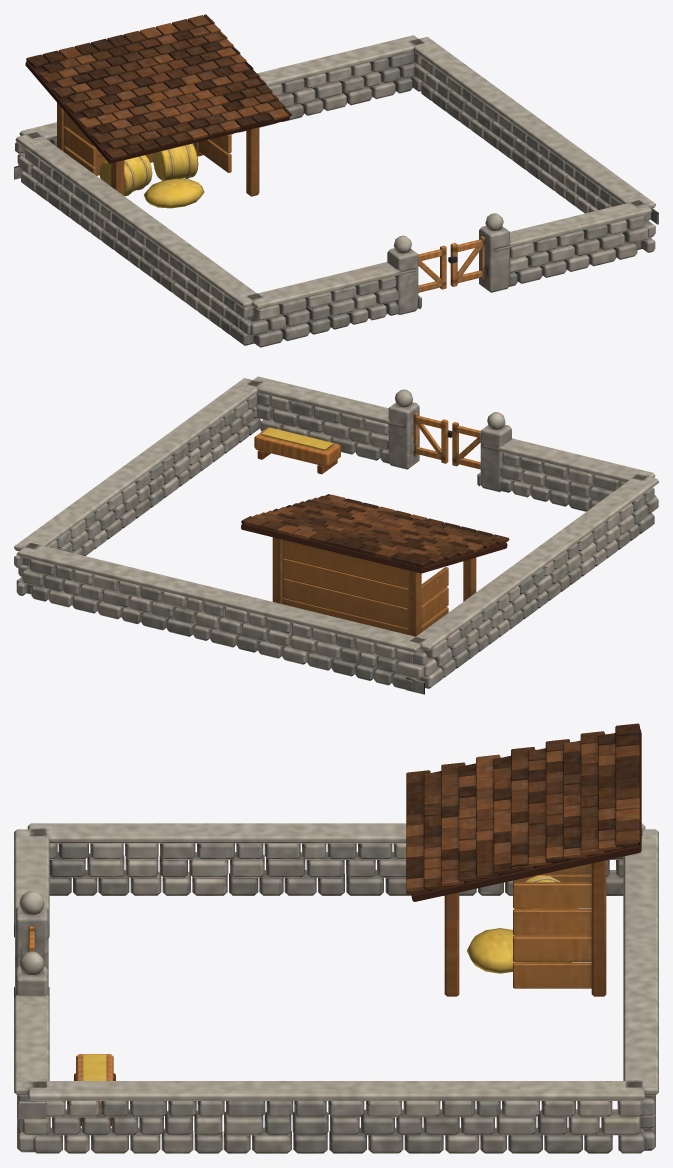
File: highland_pasture.glb
The picture shows the model from 3 angles, top to bottom: view 1: azimuth 30°, elevation 25°; view 2: azimuth 150°, elevation 25°; view 3: azimuth 270°, elevation 25°; orthographic projection. The views are drawn at different scales.
Parts seen in each view (by area): view 1: highland_pasture, gate1, gate0; view 2: highland_pasture, gate1, gate0; view 3: highland_pasture.
Part boxes in pixels (bbox=[...]): highland_pasture: bbox=[14, 14, 658, 347]; gate1: bbox=[448, 236, 484, 286]; gate0: bbox=[418, 245, 446, 292]; highland_pasture: bbox=[14, 376, 658, 694]; gate1: bbox=[413, 412, 452, 463]; gate0: bbox=[452, 422, 480, 469]; highland_pasture: bbox=[14, 723, 658, 1153].
Size of the model in its own units: 3.07 by 0.9345 by 3.07.
Materials: 1 (1 with a texture image).
